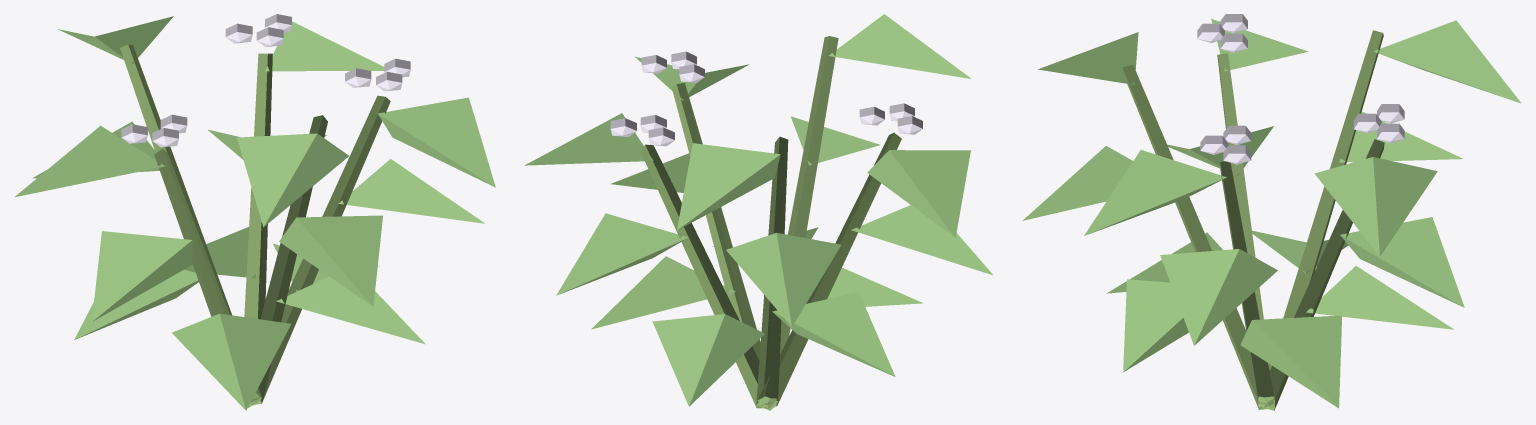
Rendered from field_potato.glb.
3 renders of one model, left to right at view 1: azimuth 30°, elevation 25°; view 2: azimuth 150°, elevation 25°; view 3: azimuth 270°, elevation 25°, orthographic. The views are drawn at different scales.
Parts seen in each view (by area): view 1: Leaf#7, Leaf#6, Leaf#5, Leaf#8, Leaf#3, Leaf#9, Leaf#2, Leaf#4, Stem, Stem#5, Leaf#15, Stem#3 (+11 smaller); view 2: Leaf#11, Leaf#13, Leaf#9, Leaf#12, Leaf#14, Leaf#10, Stem#5, Leaf#6, Stem#2, Leaf, Leaf#8, Stem#3 (+9 smaller); view 3: Leaf#15, Leaf#2, Leaf, Leaf#3, Leaf#14, Leaf#12, Leaf#4, Stem#4, Leaf#13, Stem#2, Leaf#5, Stem#5 (+16 smaller).
Boxes of the visible parts, <box> form: Leaf#7: <box>172,313,290,410</box>; Leaf#6: <box>237,133,348,227</box>; Leaf#5: <box>279,215,382,306</box>; Leaf#8: <box>92,231,192,321</box>; Leaf#3: <box>378,97,495,187</box>; Leaf#9: <box>14,125,164,197</box>; Leaf#2: <box>338,159,485,223</box>; Leaf#4: <box>276,276,425,344</box>; Stem: <box>251,95,390,403</box>; Stem#5: <box>244,53,272,399</box>; Leaf#15: <box>265,21,384,71</box>; Stem#3: <box>154,148,261,407</box>; Leaf#11: <box>726,233,841,326</box>; Leaf#13: <box>652,314,764,406</box>; Leaf#9: <box>867,150,970,237</box>; Leaf#12: <box>677,143,780,230</box>; Leaf#14: <box>556,213,688,295</box>; Leaf#10: <box>772,292,895,376</box>; Stem#5: <box>640,144,777,408</box>; Leaf#6: <box>828,14,971,78</box>; Stem#2: <box>757,36,838,404</box>; Leaf: <box>591,256,735,329</box>; Leaf#8: <box>851,205,992,274</box>; Stem#3: <box>757,132,901,409</box>; Leaf#15: <box>1314,157,1437,256</box>; Leaf#2: <box>1160,249,1277,345</box>; Leaf: <box>1240,315,1342,408</box>; Leaf#3: <box>1084,150,1226,235</box>; Leaf#14: <box>1340,217,1464,307</box>; Leaf#12: <box>1373,20,1521,103</box>; Leaf#4: <box>1123,279,1188,372</box>; Stem#4: <box>1258,30,1383,407</box>; Leaf#13: <box>1306,266,1453,329</box>; Stem#2: <box>1122,64,1274,409</box>; Leaf#5: <box>1022,146,1132,220</box>; Stem#5: <box>1258,139,1384,410</box>.
Bounding box in the file's own units: 0.633 × 0.489 × 0.648.
